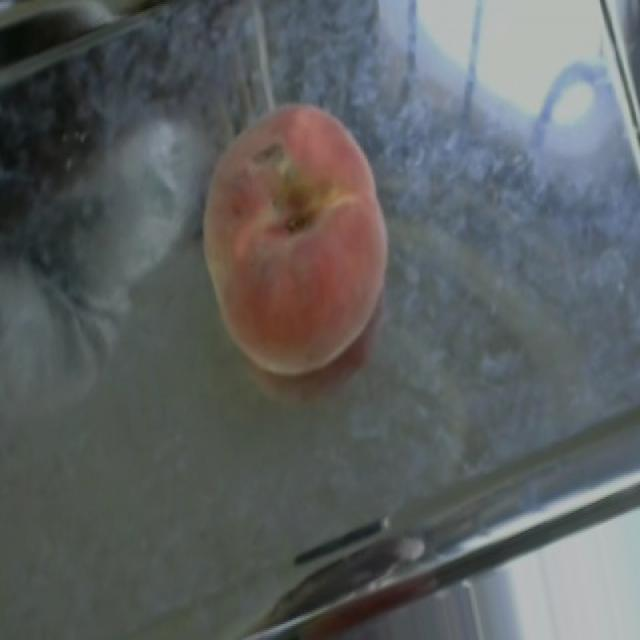Fruit: (162, 76, 426, 402)
